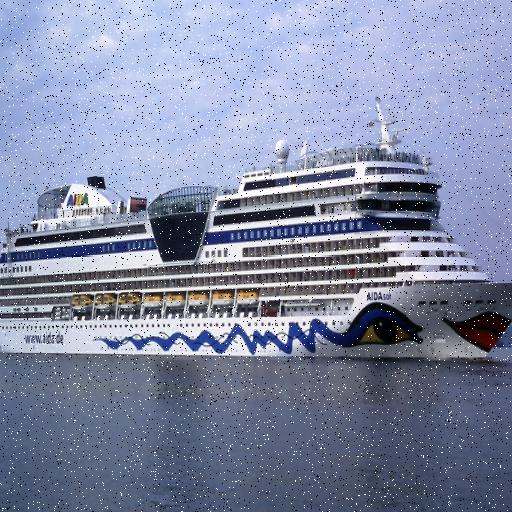cruises: (1, 94, 512, 368)
